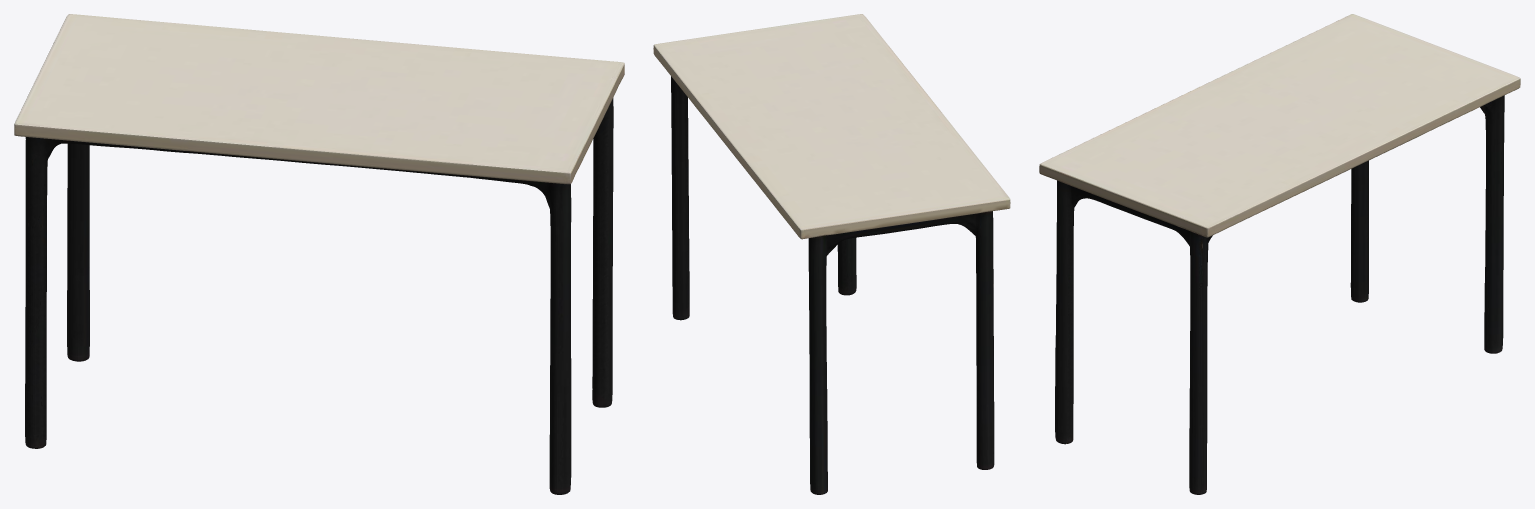
File: light-colored_wooden_table_in_middle_row_(right)_000.glb
3 renders of one model, left to right at view 1: azimuth 30°, elevation 25°; view 2: azimuth 150°, elevation 25°; view 3: azimuth 270°, elevation 25°, orthographic. The views are drawn at different scales.
Visible parts, largest first — view 1: phase2_final_light-colored_wooden_table_in_middle_row_(right; view 2: phase2_final_light-colored_wooden_table_in_middle_row_(right; view 3: phase2_final_light-colored_wooden_table_in_middle_row_(right.
Part boxes in pixels (<box>): phase2_final_light-colored_wooden_table_in_middle_row_(right: <box>14,14,624,494</box>; phase2_final_light-colored_wooden_table_in_middle_row_(right: <box>653,14,1010,494</box>; phase2_final_light-colored_wooden_table_in_middle_row_(right: <box>1039,14,1520,494</box>.
Size of the model in its own units: 0.7021 by 0.4277 by 0.672.
Materials: 1 (1 with a texture image).
